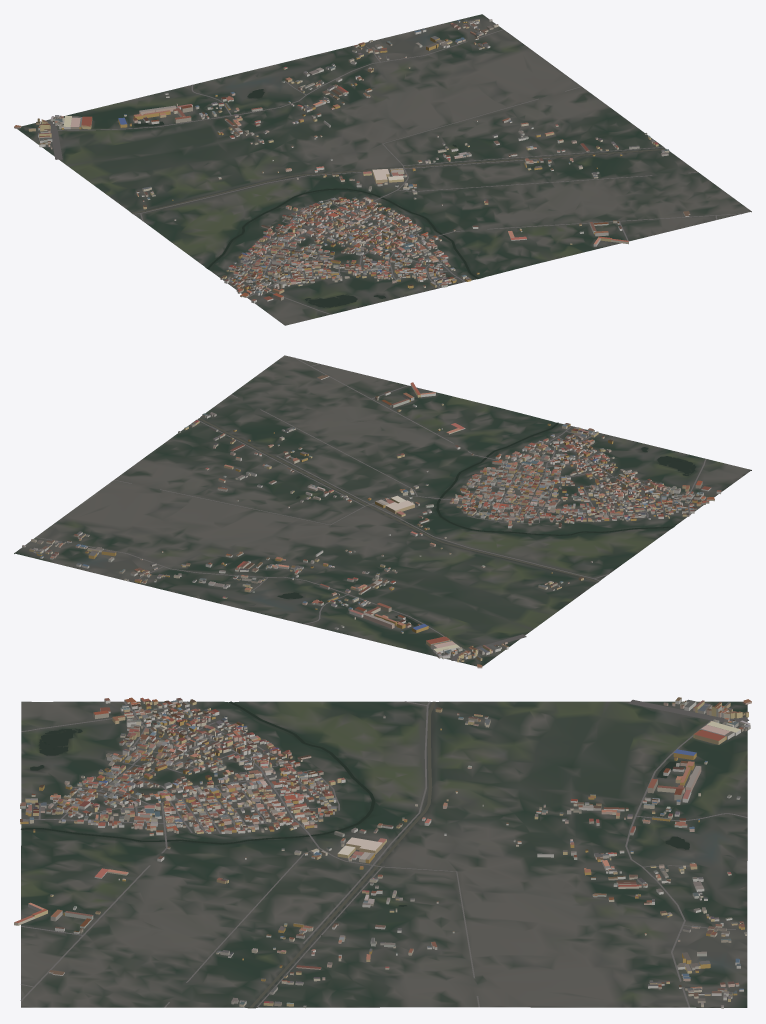
3 views of the same model, one above another, from view 1: azimuth 30°, elevation 25°; view 2: azimuth 150°, elevation 25°; view 3: azimuth 270°, elevation 25° (orthographic). The views are drawn at different scales.
Parts seen in each view (by area): view 1: ground, buildings, roads, water; view 2: ground, buildings, roads, water; view 3: ground, buildings, roads, water.
Part boxes in pixels (bbox=[...]): ground: bbox=[17, 14, 751, 325]; buildings: bbox=[14, 19, 690, 303]; roads: bbox=[41, 29, 741, 314]; water: bbox=[131, 89, 666, 307]; ground: bbox=[14, 355, 751, 666]; buildings: bbox=[22, 375, 721, 668]; roads: bbox=[35, 357, 708, 661]; water: bbox=[198, 418, 696, 625]; ground: bbox=[21, 701, 747, 1008]; buildings: bbox=[14, 697, 751, 1008]; roads: bbox=[20, 699, 748, 1007]; water: bbox=[21, 701, 689, 1008].
Bounding box in the file's own units: 1414 × 24.63 × 1424.
